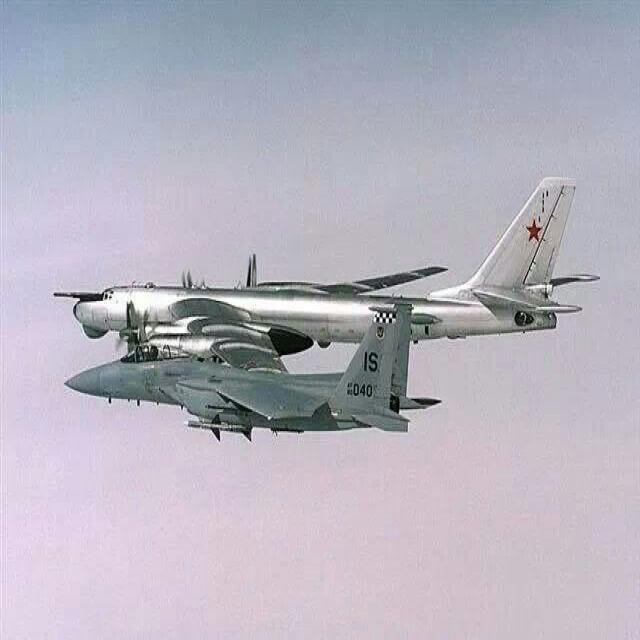MIL_Plane: (53, 177, 603, 374), (63, 300, 443, 442)
